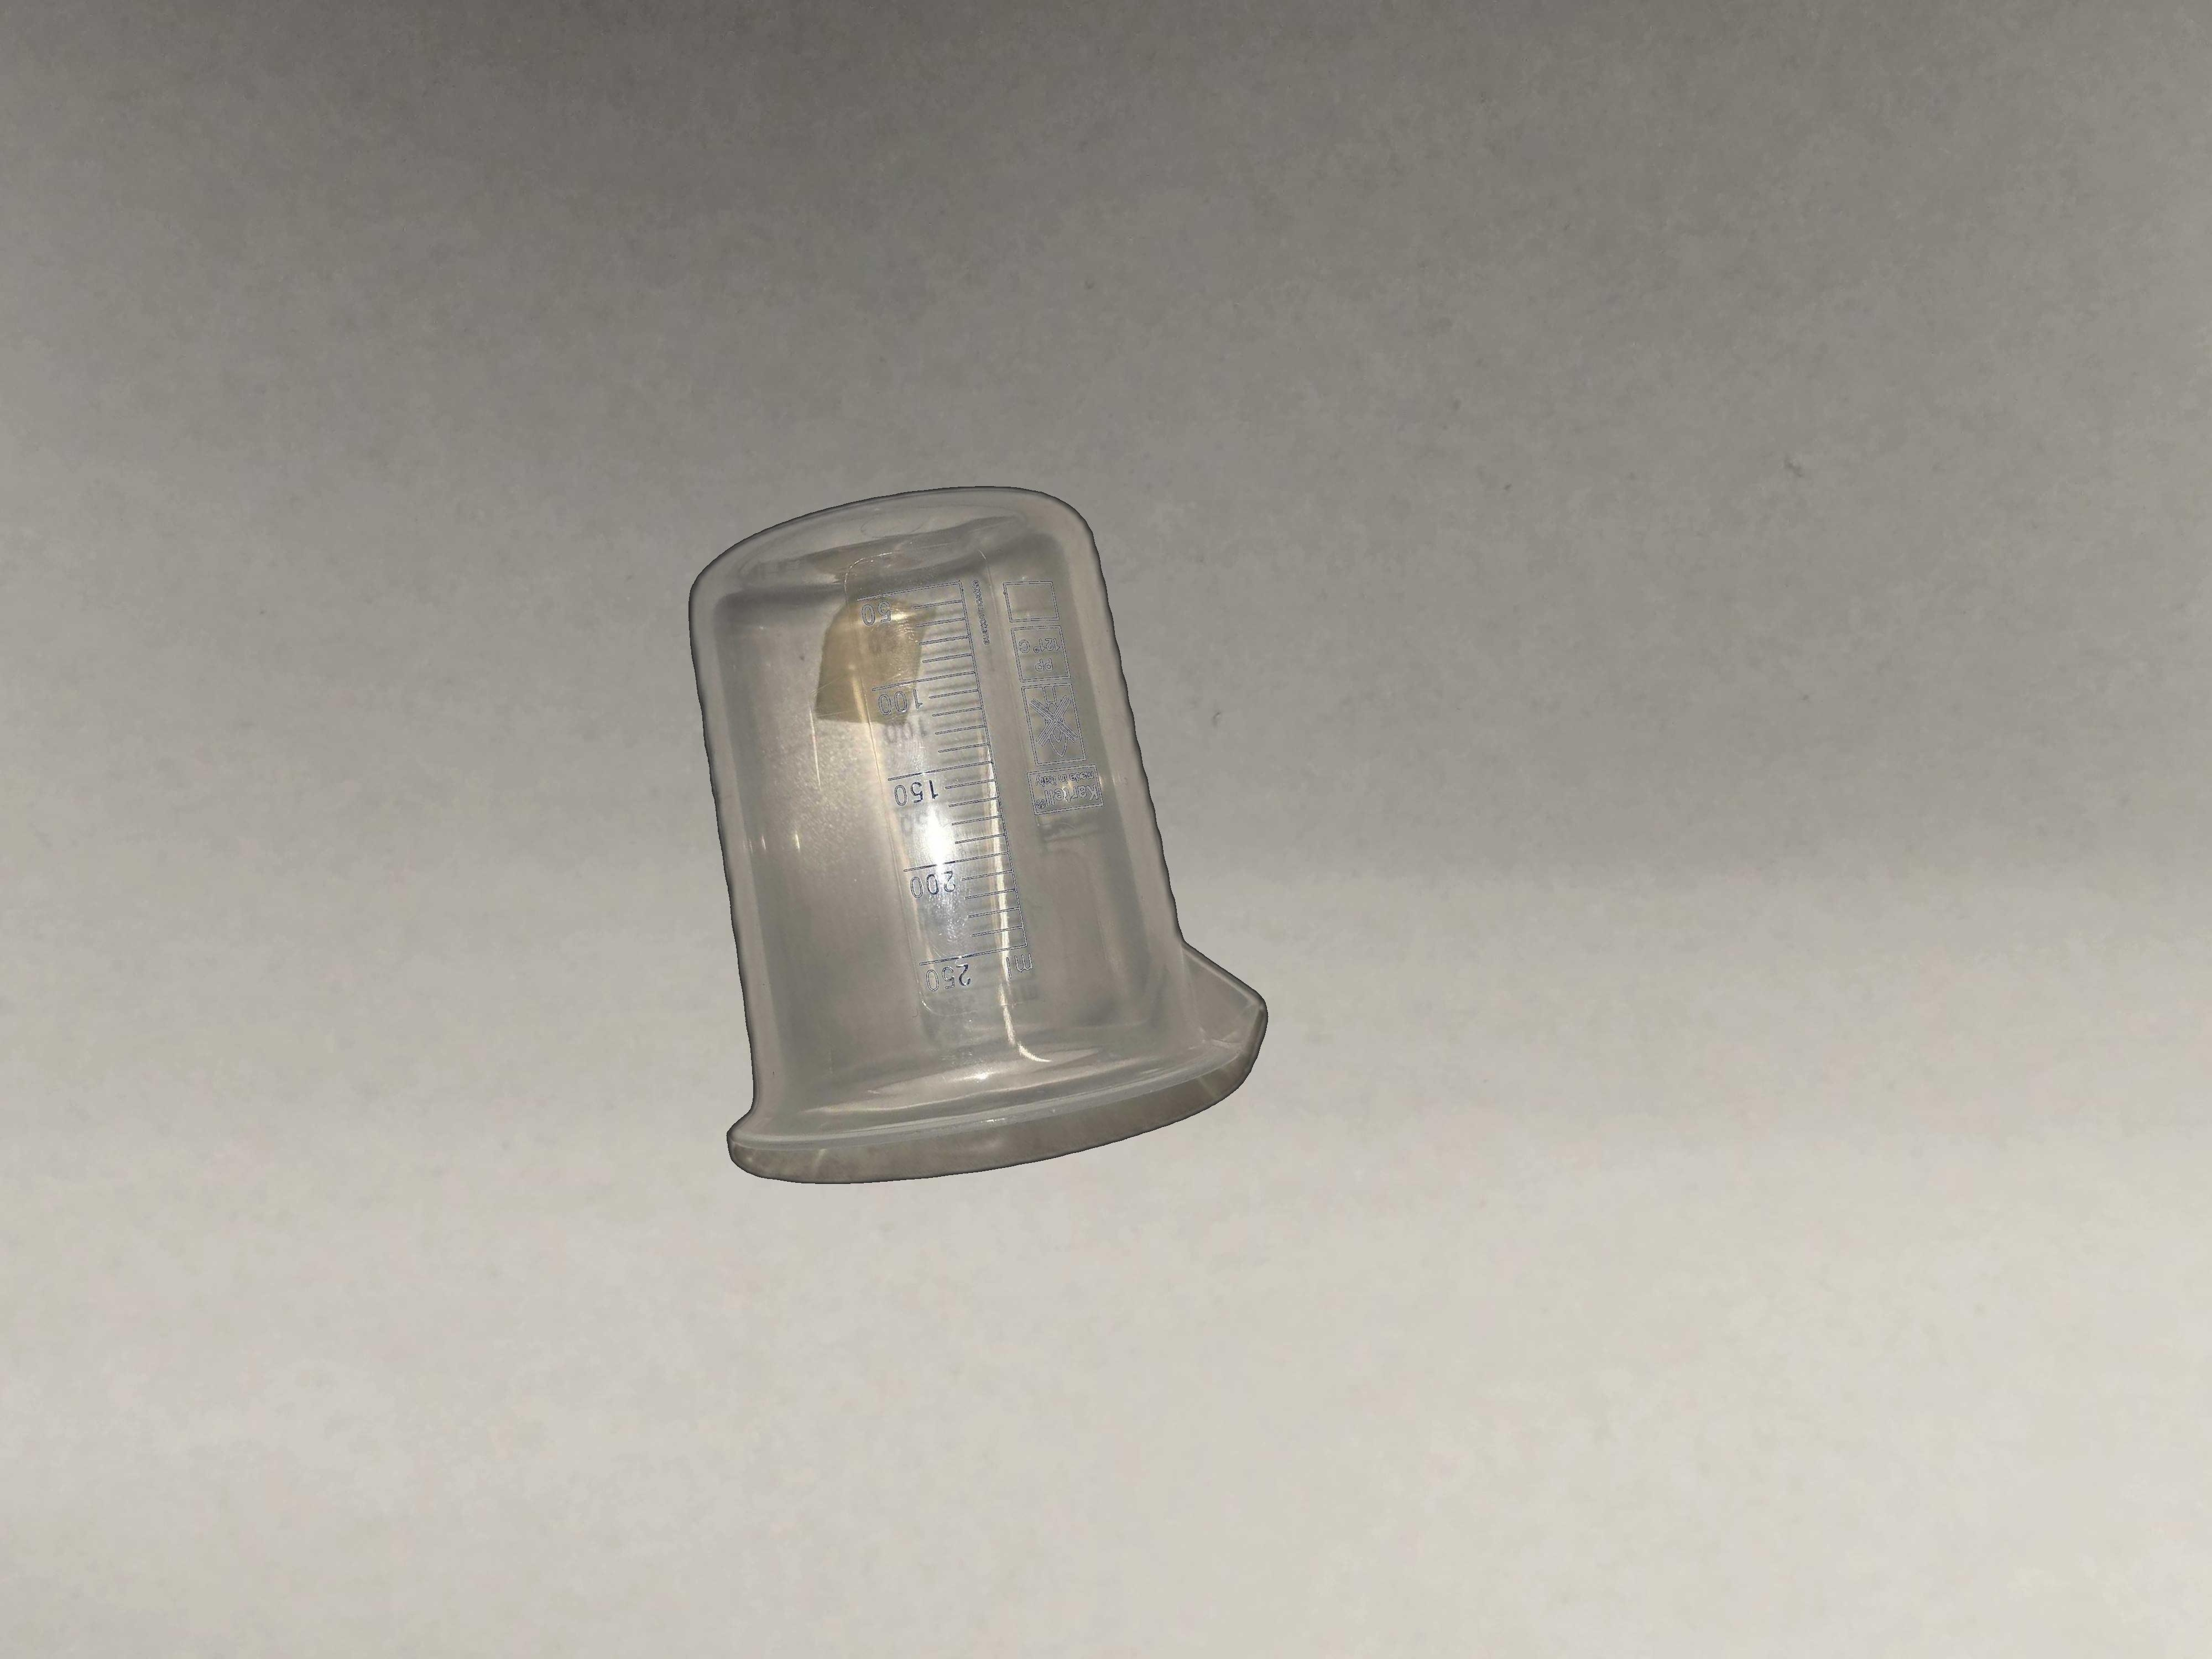becker: (688, 484, 1271, 1185)
